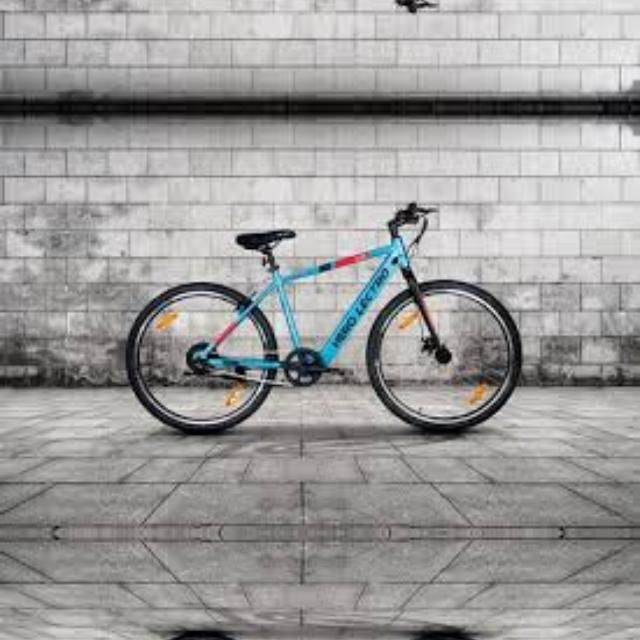obstacle: (122, 166, 538, 444), (122, 0, 538, 47), (122, 621, 538, 640)
